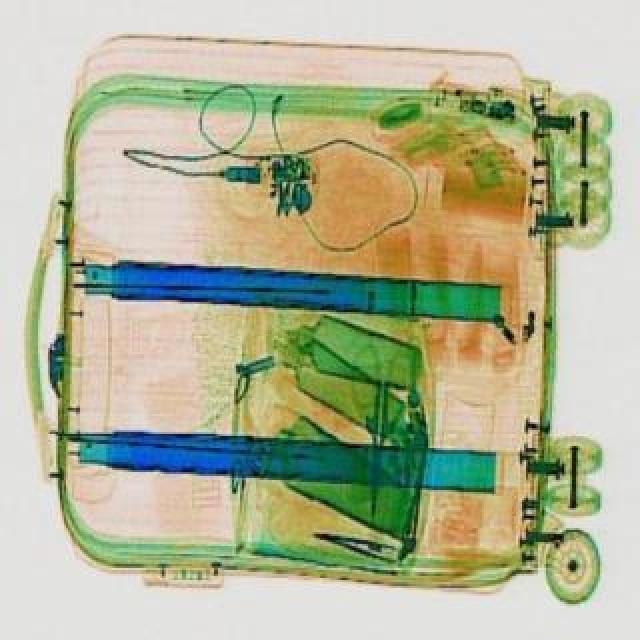knife: (364, 376, 390, 518)
